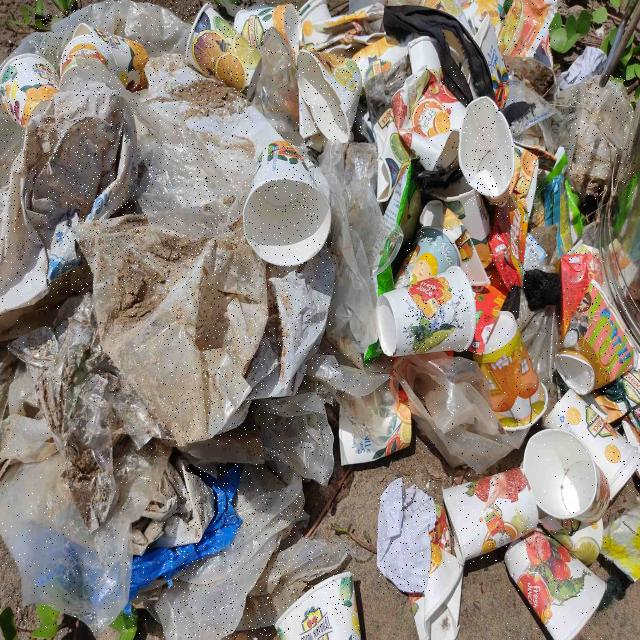paper: (244, 138, 330, 267), (507, 531, 606, 640), (546, 390, 640, 499), (377, 266, 477, 357), (444, 469, 539, 564), (558, 282, 636, 396), (479, 312, 549, 431), (525, 430, 611, 524), (392, 66, 466, 170), (377, 478, 437, 594), (186, 2, 262, 90), (60, 21, 148, 91), (298, 48, 363, 142), (460, 96, 515, 204), (275, 574, 361, 639), (0, 53, 59, 128), (396, 227, 461, 288), (562, 250, 604, 338), (234, 2, 302, 55)
plastic: (79, 215, 336, 445), (36, 0, 270, 239), (8, 294, 163, 532), (0, 441, 170, 634), (0, 91, 137, 316), (154, 465, 304, 639), (320, 140, 403, 368), (394, 352, 516, 473), (237, 540, 350, 631), (570, 76, 635, 199), (254, 394, 334, 485), (254, 26, 302, 144), (523, 306, 559, 407), (307, 355, 392, 397)
wrapper: (491, 145, 539, 290), (499, 0, 556, 56)
